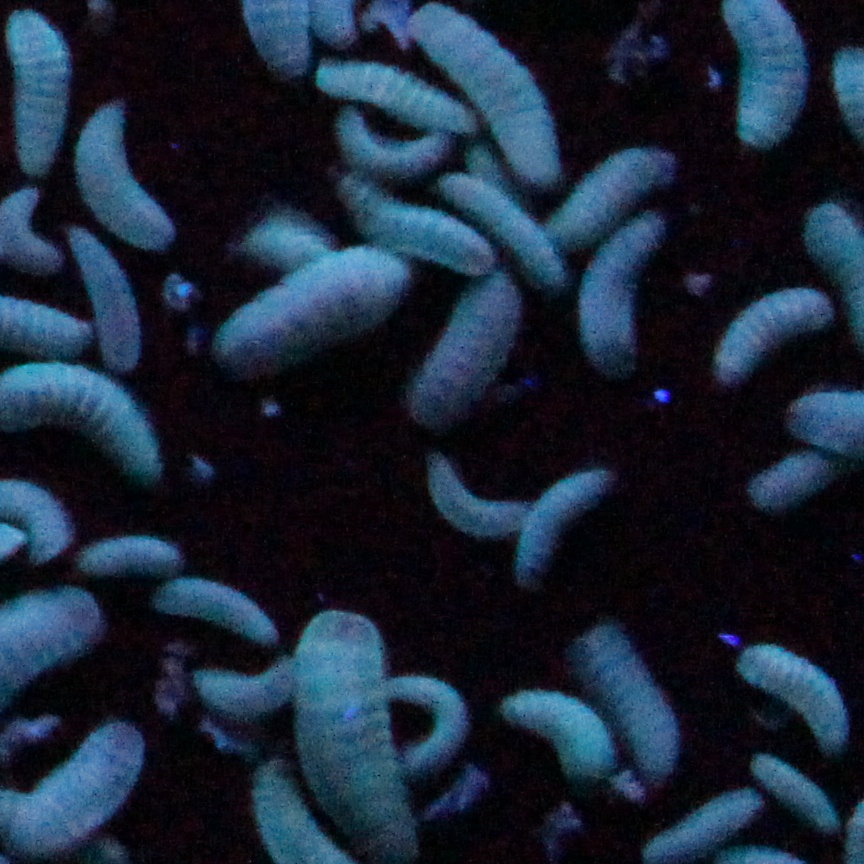larve: (417, 2, 564, 183), (209, 257, 409, 377), (574, 621, 688, 784), (71, 102, 183, 248), (441, 169, 572, 291), (11, 727, 140, 848), (424, 264, 515, 424), (588, 214, 675, 371), (742, 639, 855, 752), (521, 462, 617, 587), (2, 10, 71, 179), (707, 290, 829, 383), (513, 694, 625, 783), (421, 450, 534, 535), (152, 577, 282, 646), (650, 791, 757, 856), (75, 529, 188, 575)
